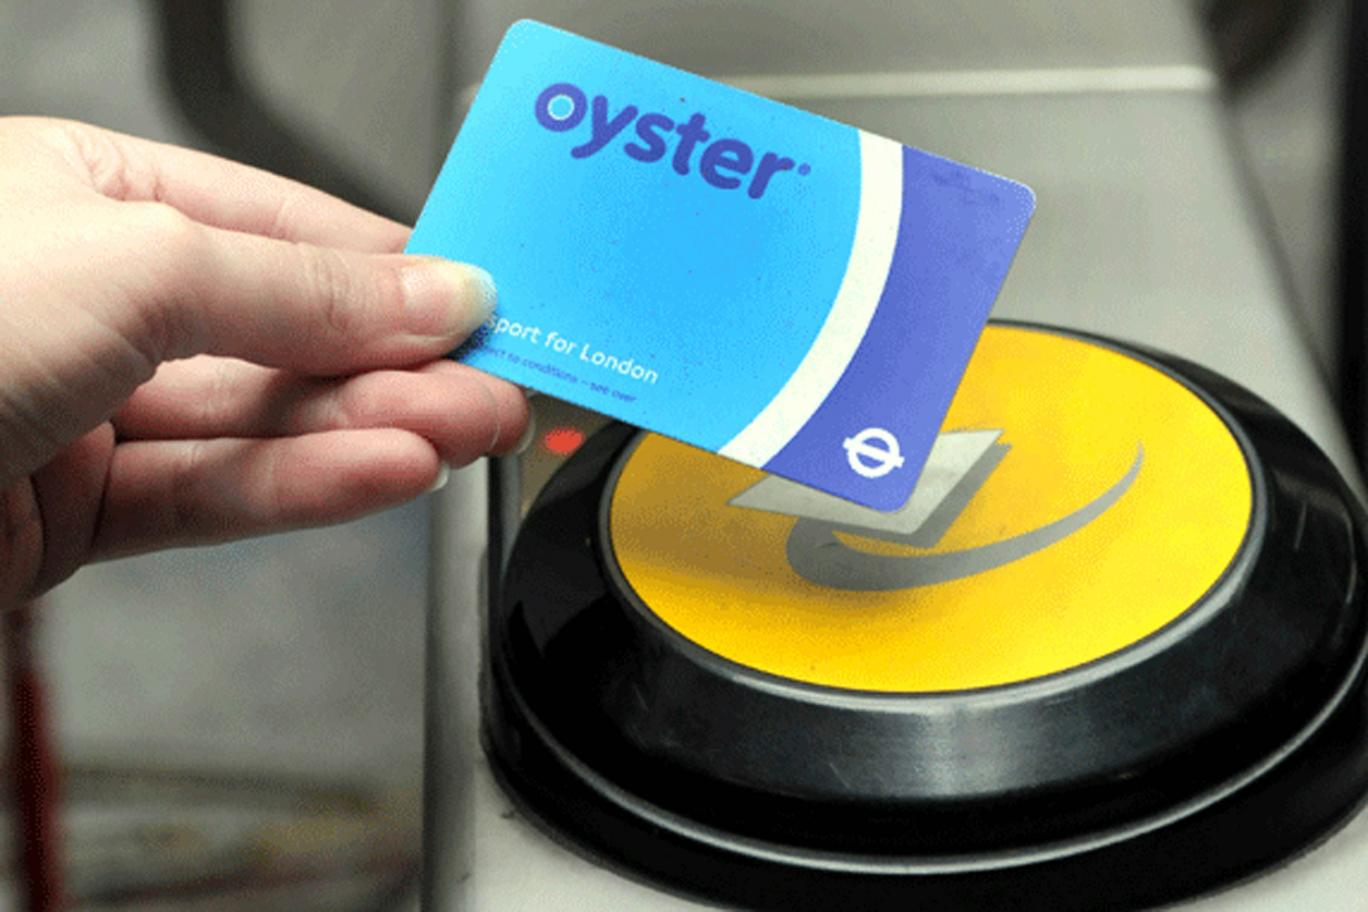tarjeta: (394, 15, 1041, 516)
